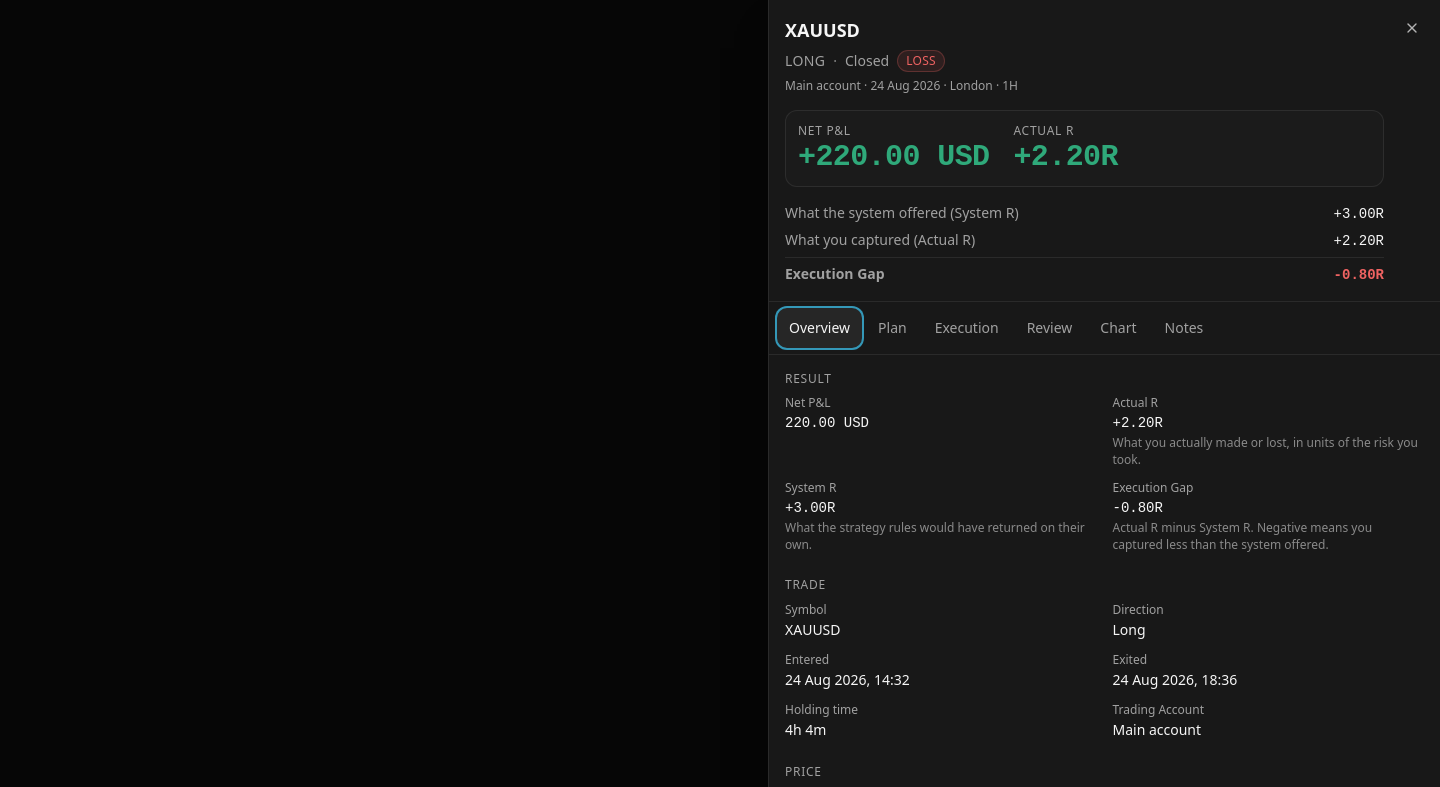
Test: Trade Details — Review › reads the attribution quadrant from two independently stored outcomes
Click the tab "Review" at [1049, 328], box [1015, 308, 1084, 348]
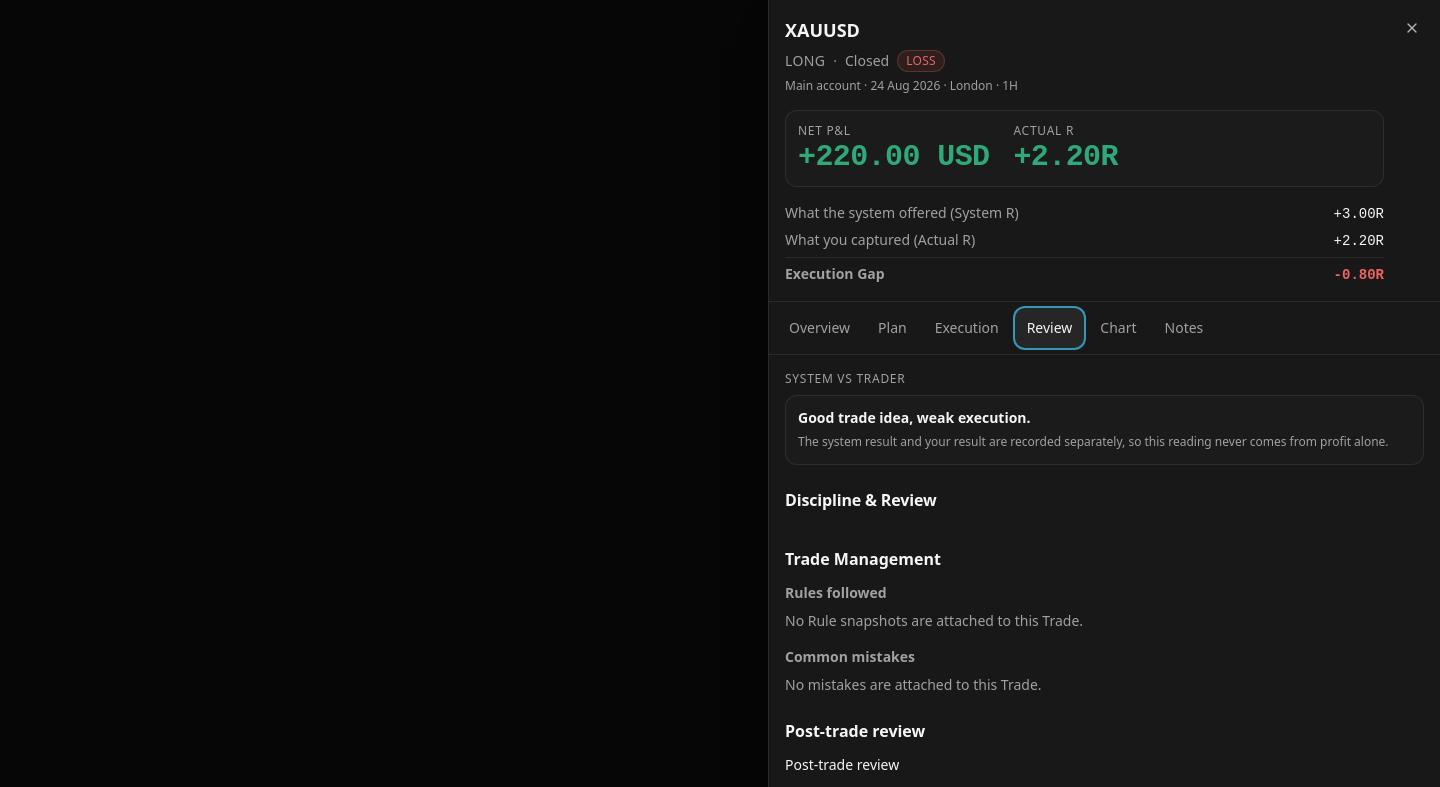
Expected: the text "Good trade idea, weak execution." is shown, [798, 408, 1031, 427]
